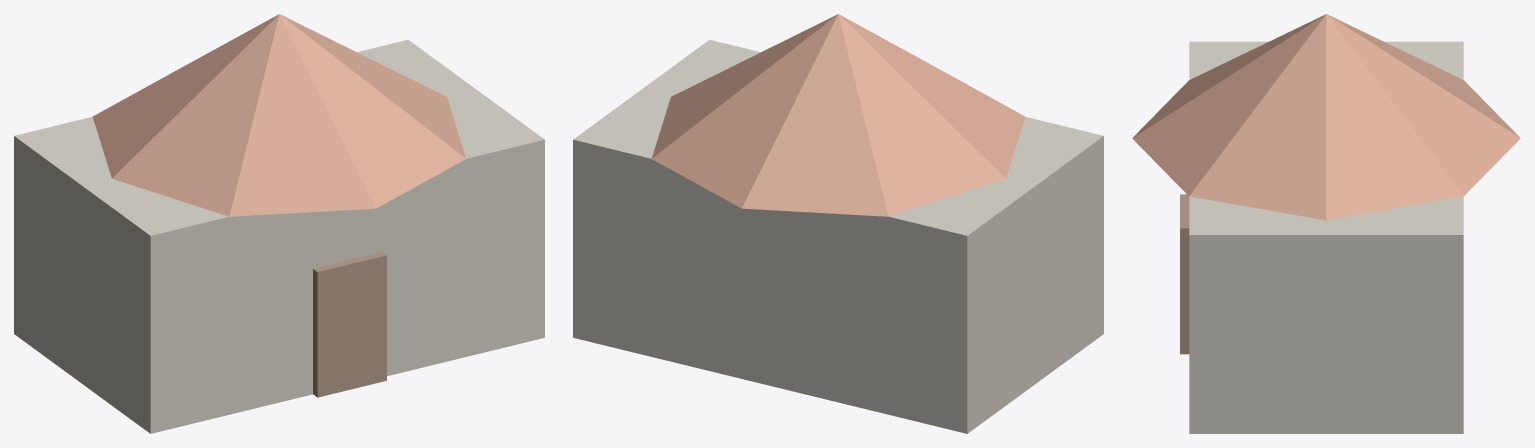
File: cottage-long.glb
The picture shows the model from 3 angles, left to right: view 1: azimuth 30°, elevation 25°; view 2: azimuth 150°, elevation 25°; view 3: azimuth 270°, elevation 25°; orthographic projection.
Parts seen in each view (by area): view 1: cottage-long; view 2: cottage-long; view 3: cottage-long.
Part boxes in pixels (x1=…): cottage-long: x1=14, y1=14, x2=544, y2=433; cottage-long: x1=573, y1=14, x2=1103, y2=433; cottage-long: x1=1132, y1=14, x2=1520, y2=433.
Bounding box in the file's own units: 2.5 × 1.95 × 2.12.
